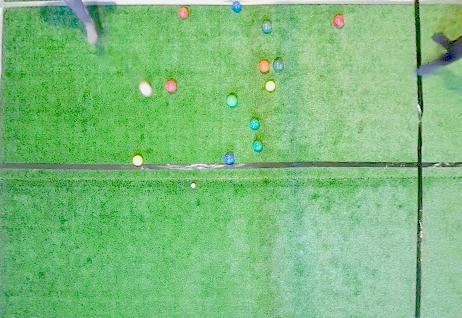blue: (225, 153, 235, 165), (232, 2, 242, 13)
green: (273, 58, 284, 72), (261, 21, 272, 34), (226, 95, 238, 106), (250, 118, 260, 130), (252, 141, 263, 151)
red: (138, 81, 152, 97), (333, 15, 344, 29), (165, 81, 177, 93), (259, 61, 270, 73), (178, 8, 189, 20)
vline: (415, 76, 461, 317), (414, 0, 461, 69), (0, 0, 7, 317)
white: (190, 183, 196, 188)
yellow: (133, 155, 143, 166), (266, 81, 275, 91)
